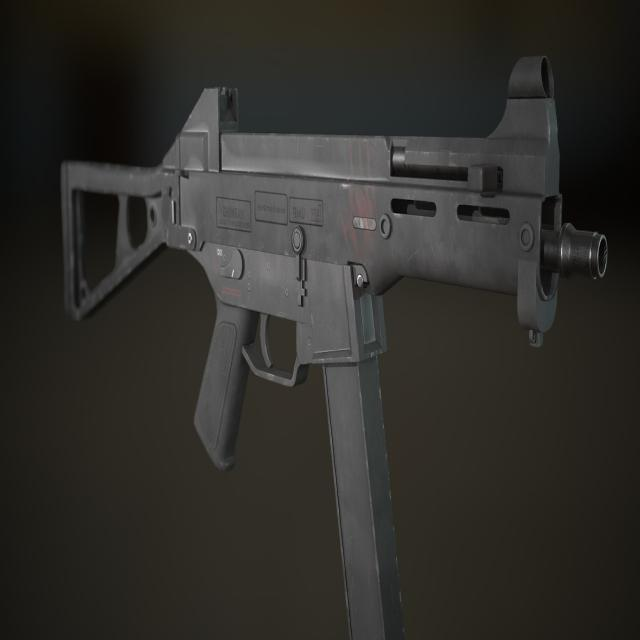Gun: (59, 11, 630, 628)
